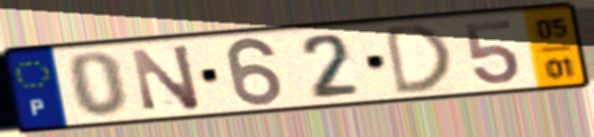0: (64, 49, 133, 121)
2: (299, 32, 364, 100)
5: (459, 17, 523, 86)
6: (223, 35, 286, 109)
D: (381, 20, 453, 99)
N: (127, 41, 205, 114)
